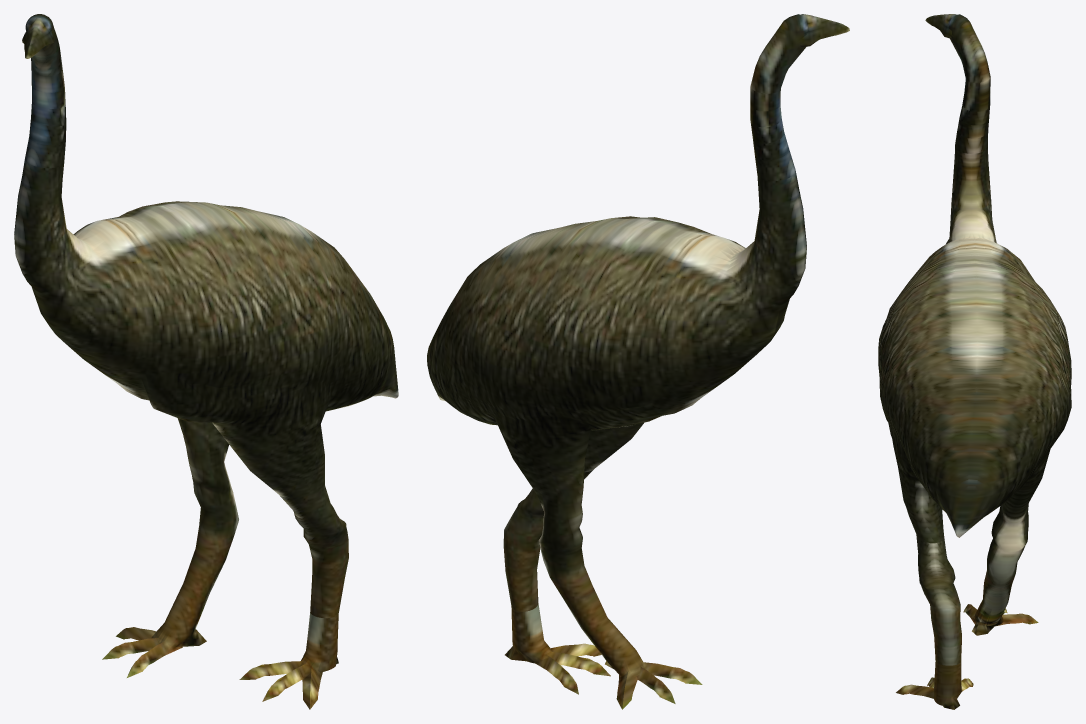
Rendered from Moa.fbx.
3 views of the same model, side by side, from view 1: azimuth 30°, elevation 25°; view 2: azimuth 150°, elevation 25°; view 3: azimuth 270°, elevation 25° (orthographic). The views are drawn at different scales.
Parts seen in each view (by area): view 1: Group1; view 2: Group1; view 3: Group1.
Part boxes in pixels (left/top/right/bottom): Group1: left=14, top=14, right=398, bottom=709; Group1: left=427, top=14, right=849, bottom=709; Group1: left=878, top=14, right=1071, bottom=709.
Size of the model in its own units: 1.37 by 2.42 by 0.7252.
